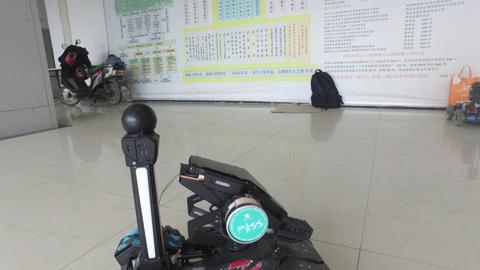bag: (307, 67, 345, 111), (448, 63, 480, 106)
chariot: (110, 101, 330, 269)
